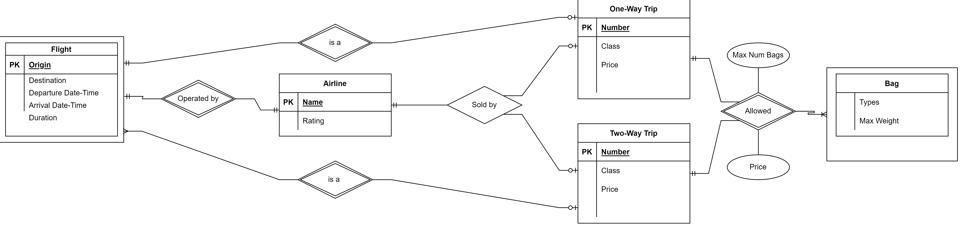attribute: (726, 41, 790, 69), (727, 155, 790, 180)
entity: (1, 34, 125, 144), (575, 121, 691, 225), (575, 1, 691, 102), (277, 71, 394, 139)
relationship: (446, 85, 522, 125)
weakentity: (825, 65, 960, 162)
weakrelationship: (299, 160, 371, 200), (299, 24, 373, 62), (722, 92, 795, 130), (162, 81, 236, 118)
